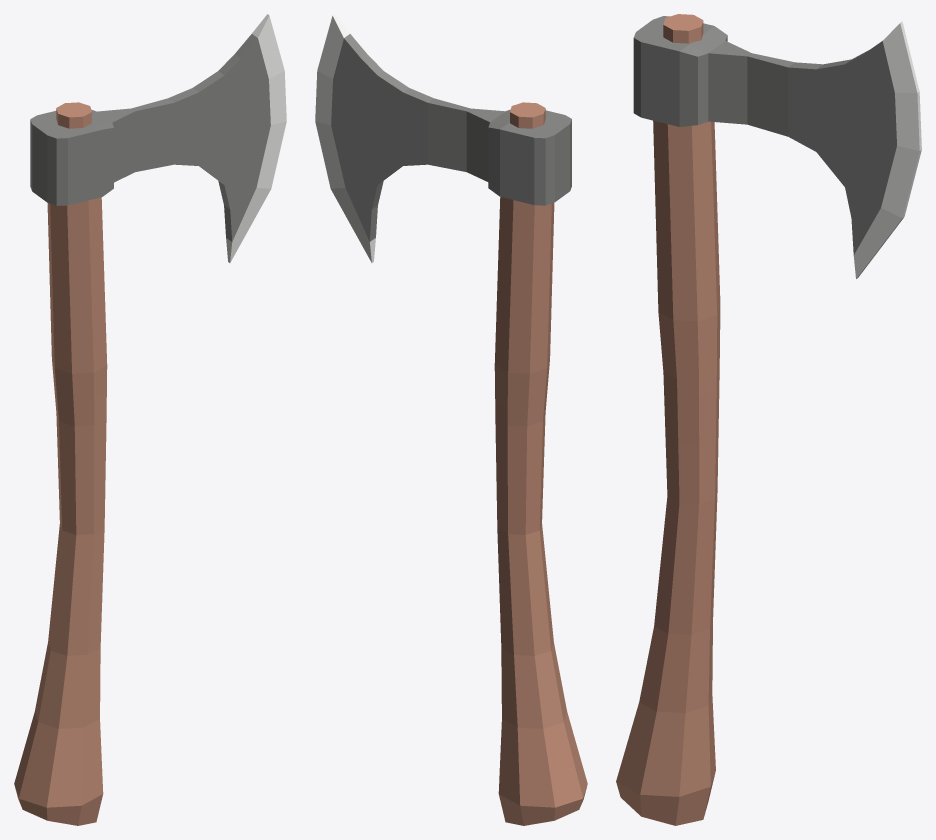
File: axes.glb
3 views of the same model, side by side, from view 1: azimuth 30°, elevation 25°; view 2: azimuth 150°, elevation 25°; view 3: azimuth 330°, elevation 25° (orthographic). The views are drawn at different scales.
Visible parts, largest first — view 1: Axe; view 2: Axe; view 3: Axe.
Part boxes in pixels (<box>): Axe: <box>14,14,286,825</box>; Axe: <box>315,14,587,825</box>; Axe: <box>616,14,921,825</box>.
Size of the model in its own units: 0.4614 by 1.25 by 0.138.
